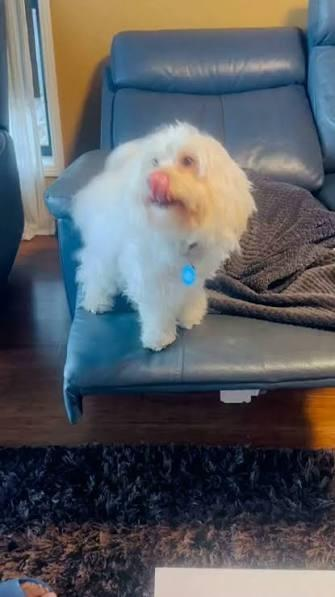adult_dog: (70, 116, 256, 352)
